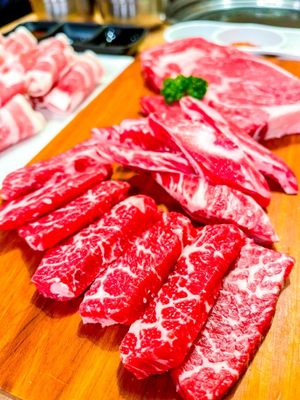curry: (160, 74, 209, 104)
